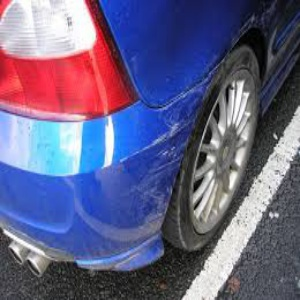bumper_scratch: (124, 85, 201, 259)
